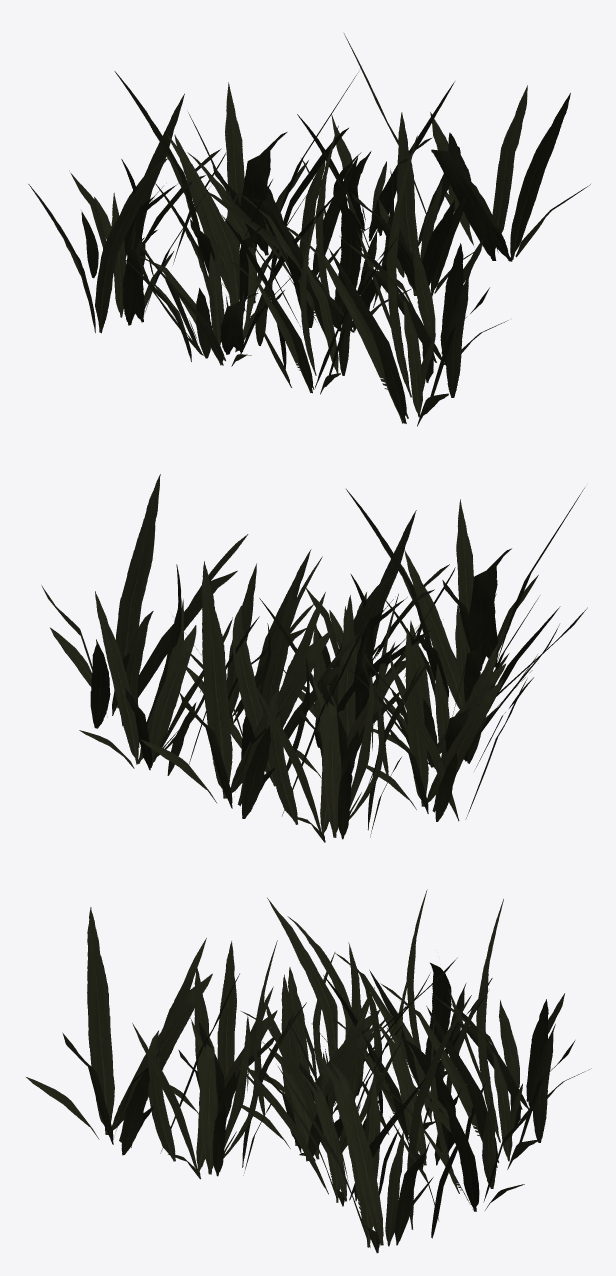
The model's file is grass.obj.
3 views of the same model, one above another, from view 1: azimuth 30°, elevation 25°; view 2: azimuth 150°, elevation 25°; view 3: azimuth 270°, elevation 25° (orthographic). The views are drawn at different scales.
Visible parts, largest first — view 1: LowPoly_Grass; view 2: LowPoly_Grass; view 3: LowPoly_Grass.
Boxes of the visible parts, left/top/right/bottom form: LowPoly_Grass: left=28, top=33, right=590, bottom=426; LowPoly_Grass: left=41, top=474, right=587, bottom=842; LowPoly_Grass: left=26, top=889, right=591, bottom=1253.
Size of the model in its own units: 4.9 by 1.99 by 4.89.
Materials: 1 (1 with a texture image).
